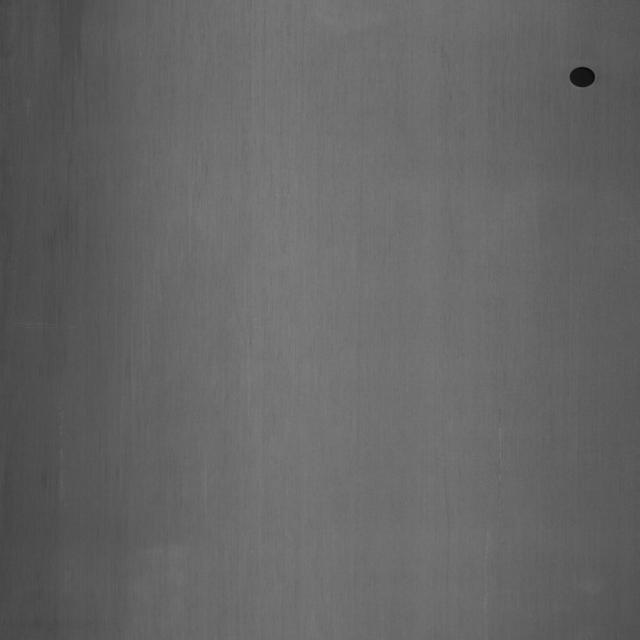crescent_gap: (566, 60, 599, 96)
